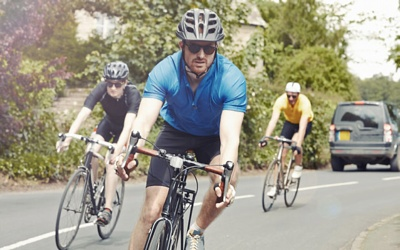helmet: (175, 6, 225, 76), (101, 58, 130, 100)
